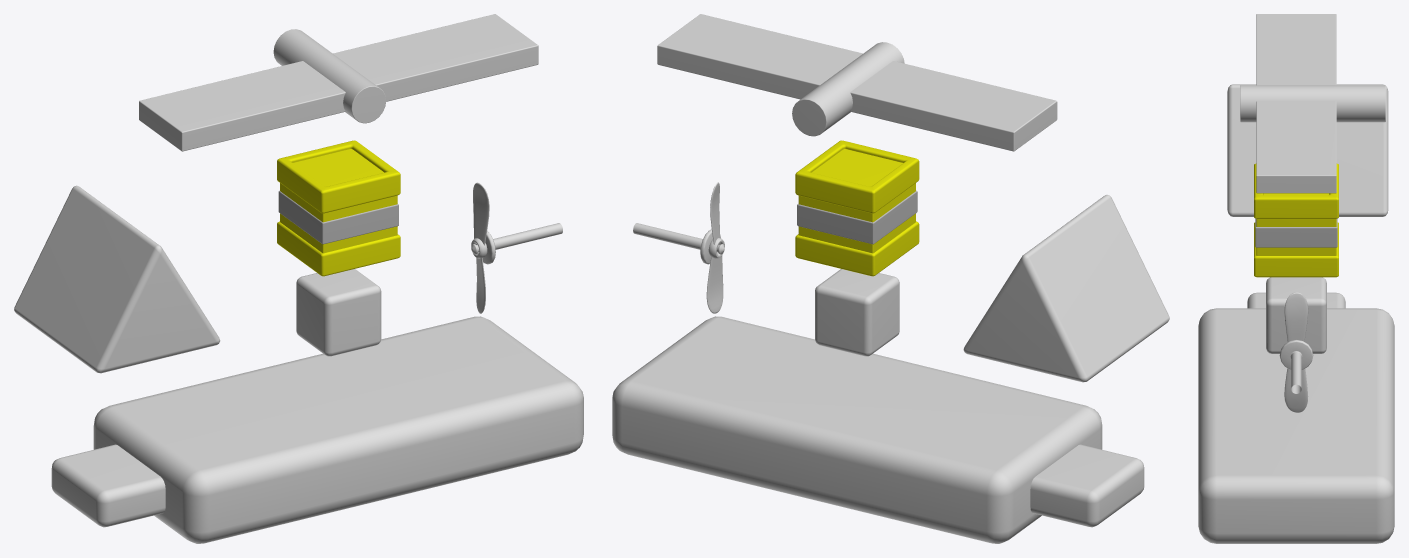
File: Props.fbx
3 views of the same model, side by side, from view 1: azimuth 30°, elevation 25°; view 2: azimuth 150°, elevation 25°; view 3: azimuth 270°, elevation 25° (orthographic). The views are drawn at different scales.
Visible parts, largest first — view 1: Cube_1, Cube_4, Smashing_Hands, Box_B, Cube_3, Box, Rotary, Box_A, propeller, fan_shaft; view 2: Cube_1, Cube_4, Smashing_Hands, Box_B, Cube_3, Box, Rotary, Box_A, propeller, fan_shaft; view 3: Cube_1, Smashing_Hands, Cube_4, Box_B, Rotary, Box, Box_A, propeller, fan_shaft, Cube_3.
Part boxes in pixels (<box>): Cube_1: <box>93,316,583,543</box>; Cube_4: <box>14,185,220,373</box>; Smashing_Hands: <box>139,14,538,151</box>; Box_B: <box>277,140,400,276</box>; Cube_3: <box>51,444,165,527</box>; Box: <box>296,269,381,356</box>; Rotary: <box>273,29,386,123</box>; Box_A: <box>278,190,398,244</box>; propeller: <box>471,182,489,313</box>; fan_shaft: <box>471,223,562,264</box>; Cube_1: <box>612,316,1102,543</box>; Cube_4: <box>963,195,1169,382</box>; Smashing_Hands: <box>657,14,1057,151</box>; Box_B: <box>795,140,919,276</box>; Cube_3: <box>1030,444,1144,527</box>; Box: <box>815,269,899,356</box>; Rotary: <box>792,42,904,136</box>; Box_A: <box>797,190,917,244</box>; propeller: <box>706,182,724,313</box>; fan_shaft: <box>633,223,724,264</box>; Cube_1: <box>1198,308,1394,543</box>; Smashing_Hands: <box>1256,14,1336,193</box>; Cube_4: <box>1227,84,1388,216</box>; Box_B: <box>1254,163,1338,277</box>; Rotary: <box>1240,85,1385,122</box>; Box: <box>1266,277,1326,353</box>; Box_A: <box>1255,218,1337,247</box>; propeller: <box>1284,292,1308,412</box>; fan_shaft: <box>1279,340,1313,393</box>; Cube_3: <box>1247,292,1345,308</box>.
Bounding box in the file's own units: 664 × 511 × 244.
